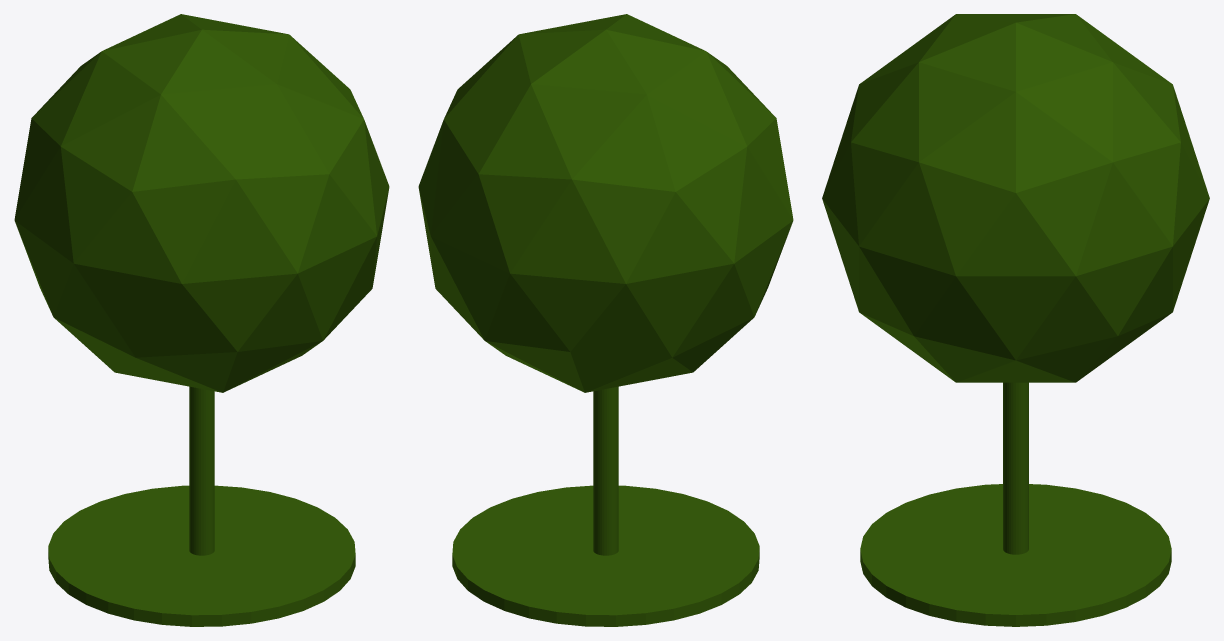
Rendered from tree_lowpoly.glb.
The picture shows the model from 3 angles, left to right: view 1: azimuth 30°, elevation 25°; view 2: azimuth 150°, elevation 25°; view 3: azimuth 270°, elevation 25°; orthographic projection.
Parts seen in each view (by area): view 1: Cylinder; view 2: Cylinder; view 3: Cylinder.
Part boxes in pixels (left/top/right/bottom): Cylinder: left=14, top=14, right=389, bottom=626; Cylinder: left=418, top=14, right=793, bottom=626; Cylinder: left=822, top=14, right=1209, bottom=626.
Bounding box in the file's own units: 3.8 × 6.13 × 4.
